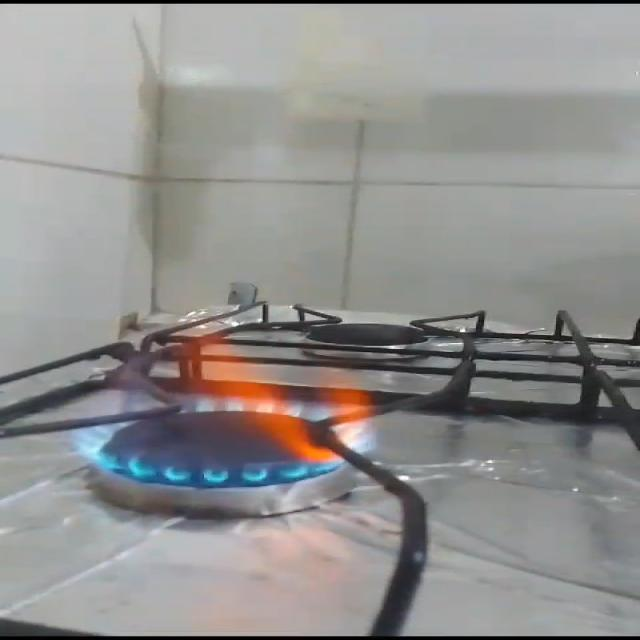fogo-ypXI: (56, 308, 377, 488)
